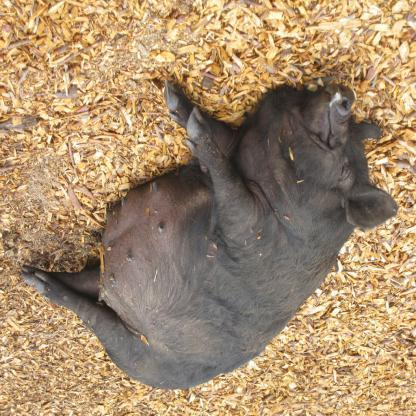boar: (20, 76, 401, 392)
